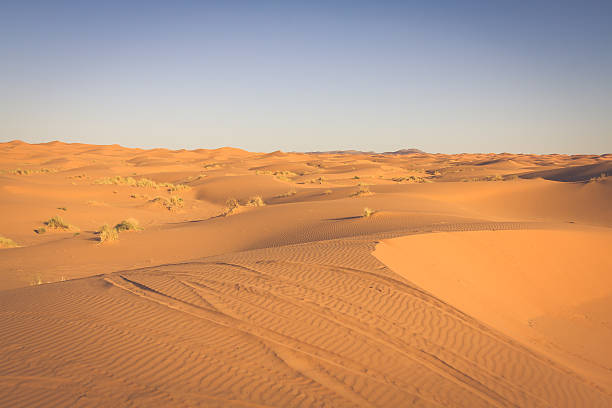vehicle_track: (155, 272, 497, 404), (110, 276, 429, 398), (312, 255, 597, 383)
